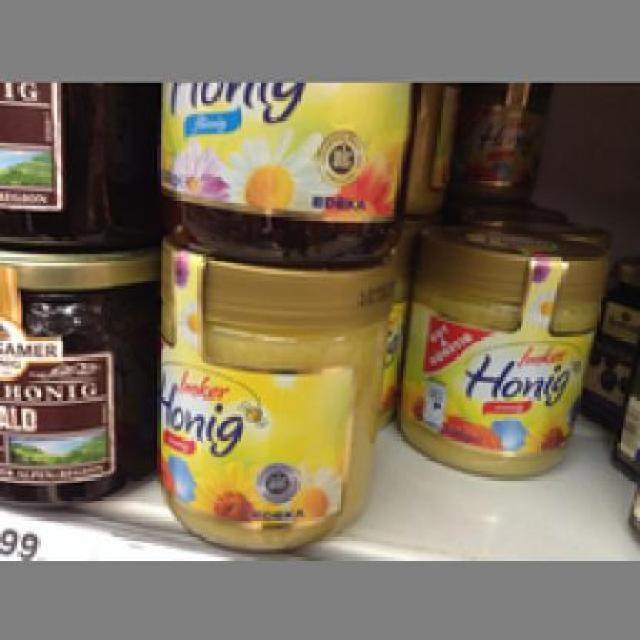Honey: (146, 240, 394, 554), (406, 212, 608, 474)
